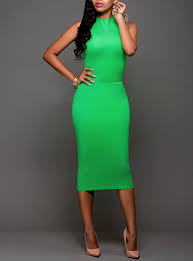C_skirt: (65, 82, 148, 195)
